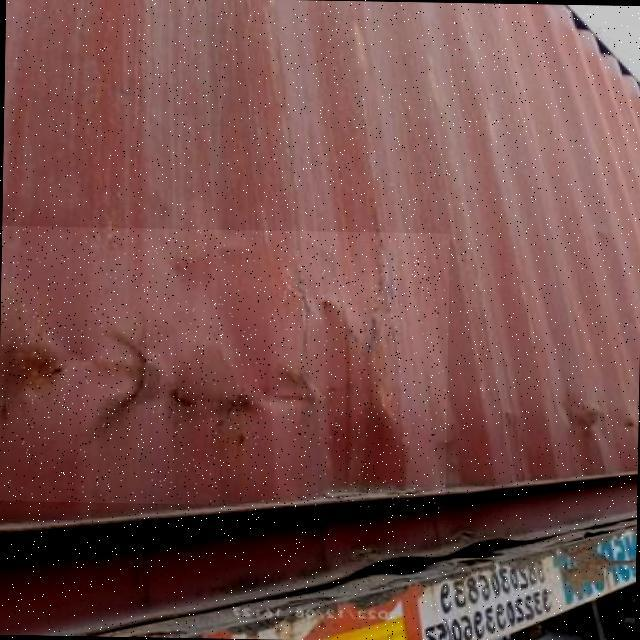Dent: (0, 225, 449, 508)
